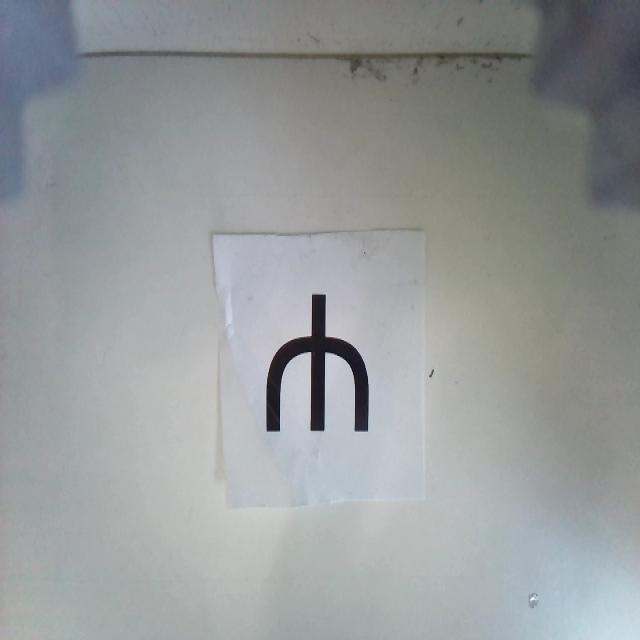nedoF: (264, 294, 370, 433)
